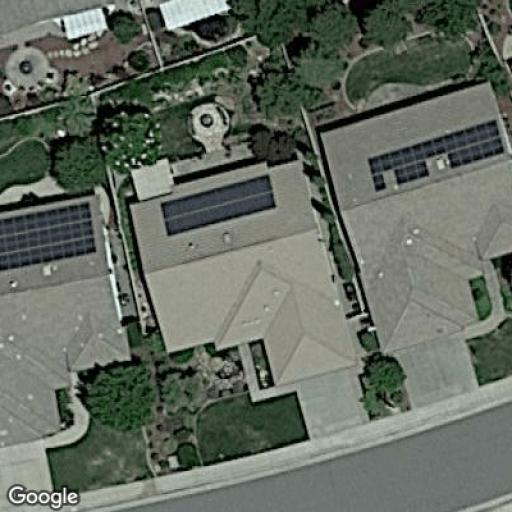solar-panel: (366, 118, 503, 194), (160, 172, 278, 239), (0, 202, 97, 274)
